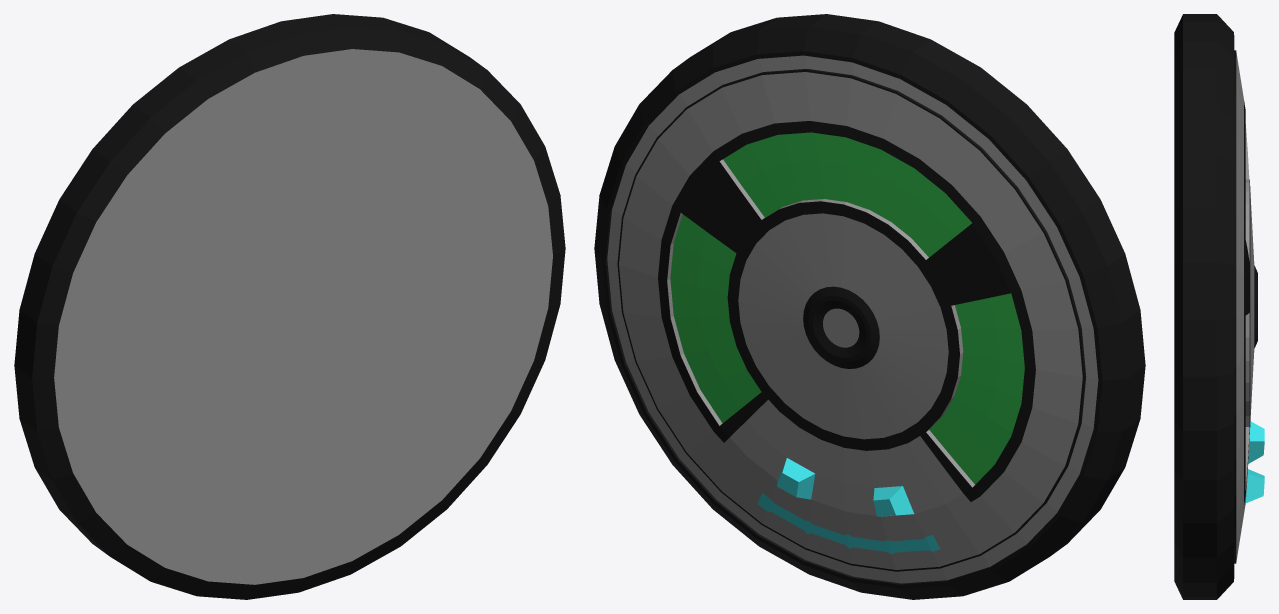
Rendered from Roomba.fbx.
3 renders of one model, left to right at view 1: azimuth 30°, elevation 25°; view 2: azimuth 150°, elevation 25°; view 3: azimuth 270°, elevation 25°, orthographic. The views are drawn at different scales.
Parts seen in each view (by area): view 1: vroom vroom vroomba; view 2: vroom vroom vroomba; view 3: vroom vroom vroomba.
Part boxes in pixels (x1,y1,x2,y2): vroom vroom vroomba: (14, 14, 565, 599); vroom vroom vroomba: (594, 14, 1145, 599); vroom vroom vroomba: (1174, 14, 1264, 599).
Size of the model in its own units: 60 by 60 by 9.27.
